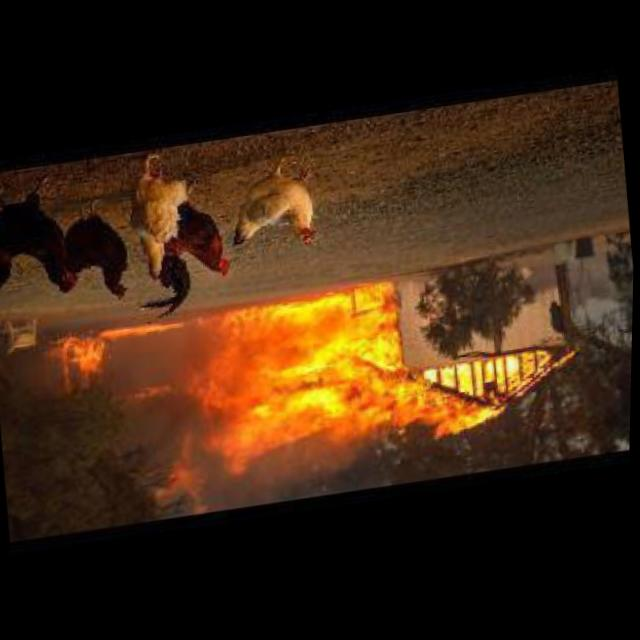Fire: (188, 257, 603, 506), (47, 316, 195, 397)
